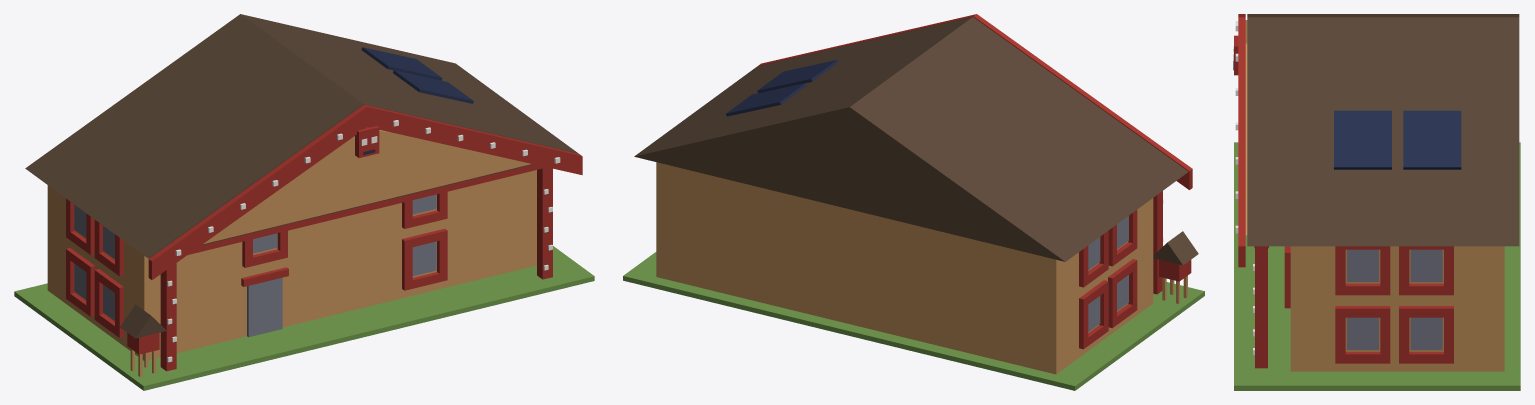
Rendered from house-2x1-2f-third-whare-a-solar.glb.
The picture shows the model from 3 angles, left to right: view 1: azimuth 30°, elevation 25°; view 2: azimuth 150°, elevation 25°; view 3: azimuth 270°, elevation 25°; orthographic projection. The views are drawn at different scales.
Parts seen in each view (by area): view 1: house-2x1-2f-third-whare-a-solar; view 2: house-2x1-2f-third-whare-a-solar; view 3: house-2x1-2f-third-whare-a-solar.
Boxes of the visible parts, x1,y1,x2,y2 form: house-2x1-2f-third-whare-a-solar: [14, 14, 594, 390]; house-2x1-2f-third-whare-a-solar: [623, 14, 1204, 390]; house-2x1-2f-third-whare-a-solar: [1233, 14, 1520, 390].
Size of the model in its own units: 2 by 0.96 by 0.993.
Materials: 1 (1 with a texture image).
